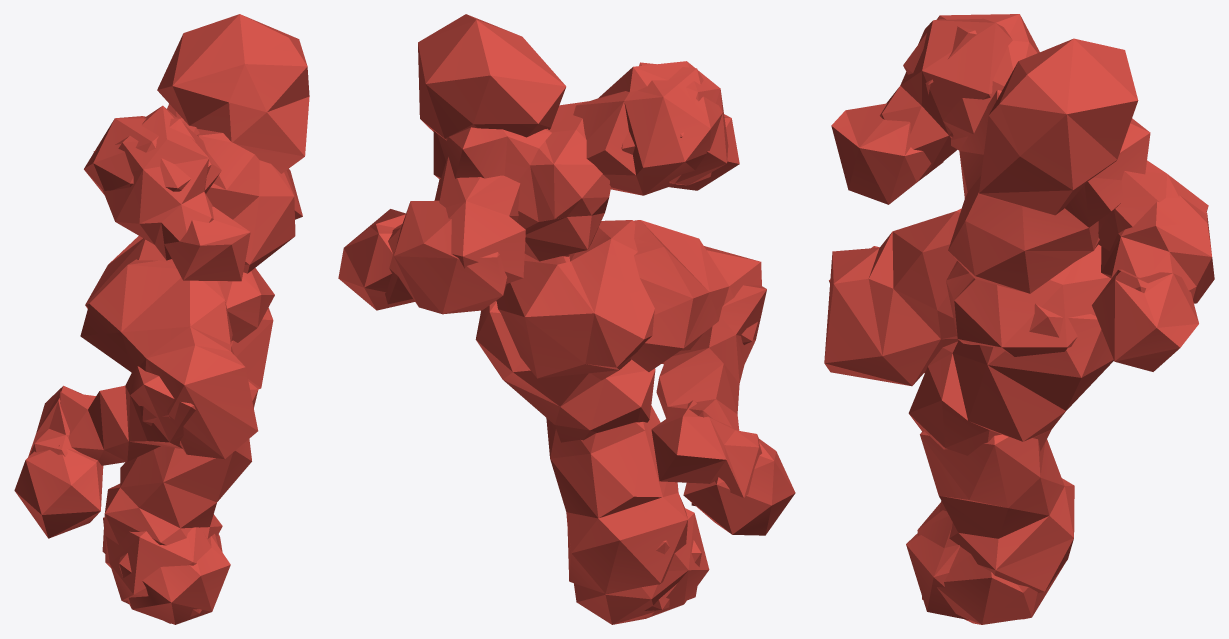
File: dance_frames0338.obj
The picture shows the model from 3 angles, left to right: view 1: azimuth 30°, elevation 25°; view 2: azimuth 150°, elevation 25°; view 3: azimuth 270°, elevation 25°; orthographic projection. The views are drawn at different scales.
Parts seen in each view (by area): view 1: Beta_Surface; view 2: Beta_Surface; view 3: Beta_Surface.
Boxes of the visible parts, x1,y1,x2,y2 form: Beta_Surface: [14, 14, 309, 624]; Beta_Surface: [338, 14, 795, 624]; Beta_Surface: [824, 14, 1214, 624].
Bounding box in the file's own units: 1.29 × 2.03 × 1.11.
